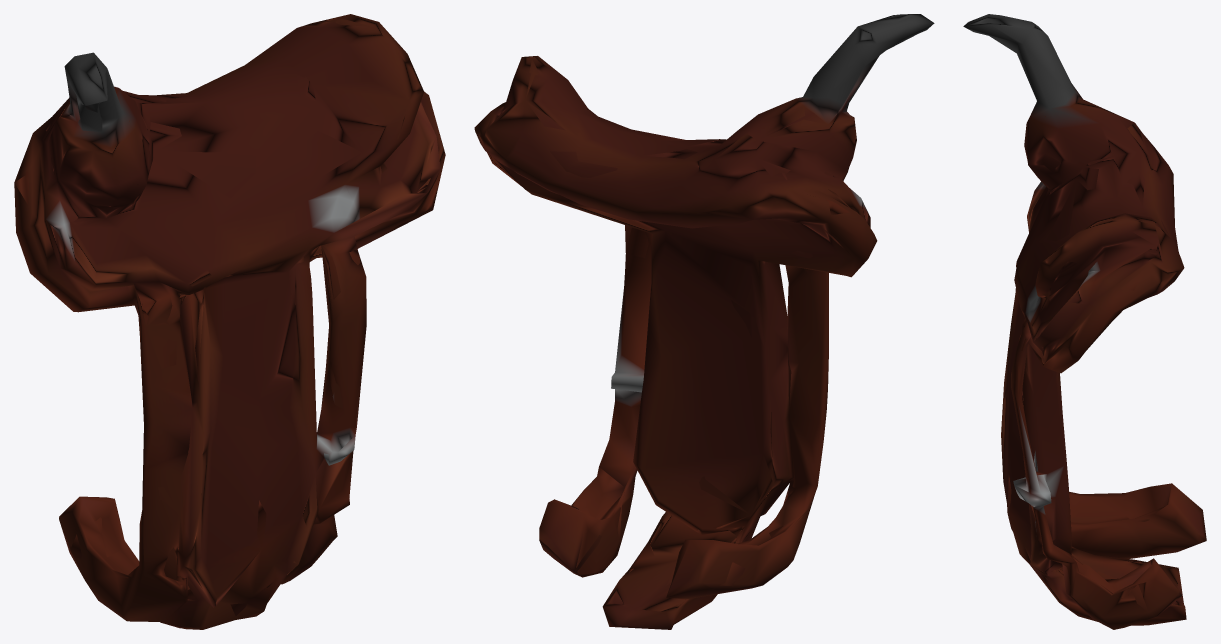
Rendered from gen3d-saddle-lod0.glb.
3 renders of one model, left to right at view 1: azimuth 30°, elevation 25°; view 2: azimuth 150°, elevation 25°; view 3: azimuth 270°, elevation 25°, orthographic. The views are drawn at different scales.
Visible parts, largest first — view 1: part_0; view 2: part_0; view 3: part_0.
Boxes of the visible parts, x1=… form: part_0: x1=14, y1=14, x2=445, y2=629; part_0: x1=474, y1=14, x2=934, y2=629; part_0: x1=963, y1=14, x2=1206, y2=629.
Size of the model in its own units: 0.6842 by 0.9982 by 0.4211.
